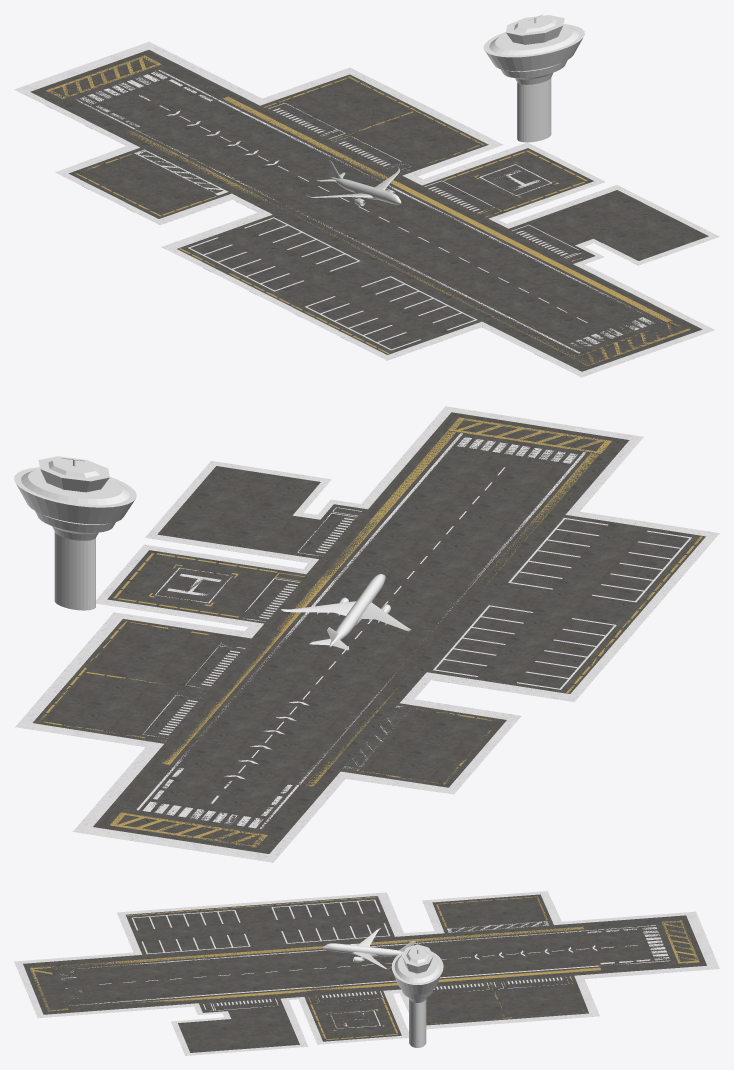
File: airport.obj
3 views of the same model, one above another, from view 1: azimuth 30°, elevation 25°; view 2: azimuth 150°, elevation 25°; view 3: azimuth 270°, elevation 25° (orthographic). The views are drawn at different scales.
Visible parts, largest first — view 1: 035_Buffer_Layer, 034_Buffer_Layer, 001_Buffer_Layer, 023_Buffer_Layer, 000_Box002, 028_Buffer_Layer, 022_Buffer_Layer, 012_Buffer_Layer, 041_Buffer_Layer, 019_Buffer_Layer, 018_Buffer_Layer; view 2: 035_Buffer_Layer, 034_Buffer_Layer, 001_Buffer_Layer, 023_Buffer_Layer, 000_Box002, 028_Buffer_Layer, 013_Buffer_Layer, 012_Buffer_Layer, 022_Buffer_Layer, 041_Buffer_Layer, 019_Buffer_Layer, 027_Buffer_Layer; view 3: 035_Buffer_Layer, 034_Buffer_Layer, 001_Buffer_Layer, 022_Buffer_Layer, 023_Buffer_Layer, 000_Box002, 028_Buffer_Layer, 019_Buffer_Layer, 018_Buffer_Layer, 012_Buffer_Layer, 041_Buffer_Layer, 003_Buffer_Layer (+5 smaller).
Part boxes in pixels (box(x1,y1,x2,y2)): 035_Buffer_Layer: box(30, 50, 708, 371); 034_Buffer_Layer: box(14, 42, 719, 377); 001_Buffer_Layer: box(483, 14, 584, 142); 023_Buffer_Layer: box(223, 96, 672, 322); 000_Box002: box(305, 160, 401, 206); 028_Buffer_Layer: box(76, 70, 217, 129); 022_Buffer_Layer: box(129, 131, 575, 356); 012_Buffer_Layer: box(46, 55, 161, 99); 041_Buffer_Layer: box(273, 108, 567, 255); 019_Buffer_Layer: box(218, 100, 661, 322); 018_Buffer_Layer: box(135, 129, 580, 353); 035_Buffer_Layer: box(33, 412, 705, 853); 034_Buffer_Layer: box(15, 406, 719, 862); 001_Buffer_Layer: box(14, 456, 136, 610); 023_Buffer_Layer: box(162, 431, 455, 764); 000_Box002: box(281, 574, 411, 650); 028_Buffer_Layer: box(136, 766, 298, 828); 013_Buffer_Layer: box(448, 417, 611, 453); 012_Buffer_Layer: box(110, 812, 267, 847); 022_Buffer_Layer: box(306, 453, 598, 786); 041_Buffer_Layer: box(159, 518, 354, 735); 019_Buffer_Layer: box(174, 433, 462, 765); 027_Buffer_Layer: box(457, 437, 577, 463); 035_Buffer_Layer: box(23, 894, 706, 1052); 034_Buffer_Layer: box(14, 891, 719, 1055); 001_Buffer_Layer: box(391, 944, 443, 1047); 022_Buffer_Layer: box(52, 926, 583, 968); 023_Buffer_Layer: box(131, 967, 600, 1003); 000_Box002: box(322, 928, 415, 969); 028_Buffer_Layer: box(585, 925, 670, 964); 019_Buffer_Layer: box(69, 965, 599, 1005); 018_Buffer_Layer: box(79, 930, 583, 968); 012_Buffer_Layer: box(661, 920, 699, 963); 041_Buffer_Layer: box(216, 977, 562, 1005); 003_Buffer_Layer: box(271, 899, 380, 919).
Size of the model in its own units: 1156 by 296 by 2040.
7 materials, 5 textured.
